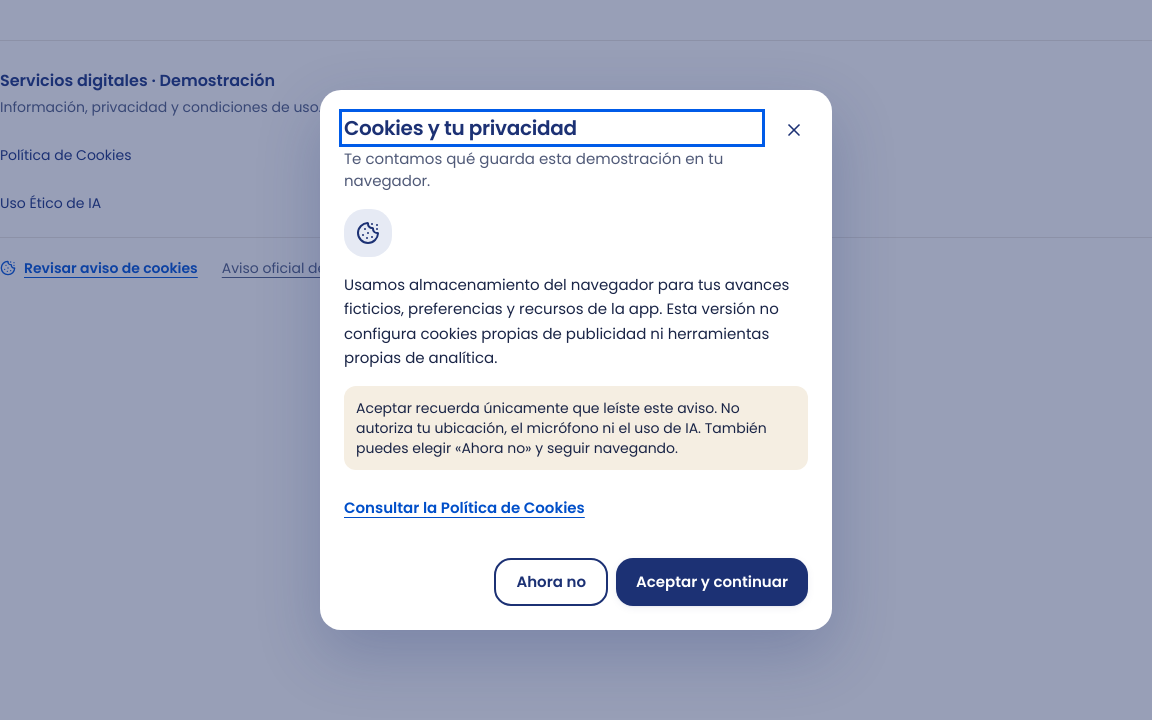
Test: Footer y aviso de cookies › no bloquea la navegación si el navegador rechaza guardar la elección
The width and height of the screenshot is (1152, 720).
Click the button "Aceptar y continuar" at (712, 582), box left=616, top=558, right=808, bottom=606
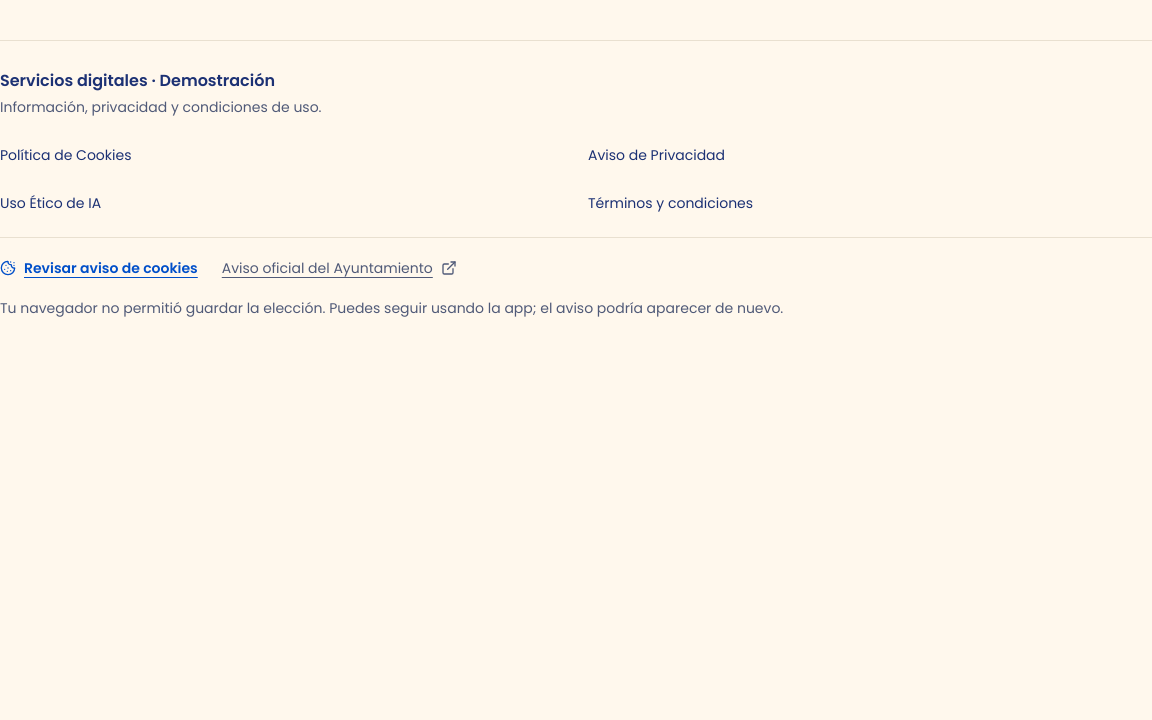
Check: the dialog is gone
Check: the message shows "no permitió guardar", box left=0, top=298, right=783, bottom=318
